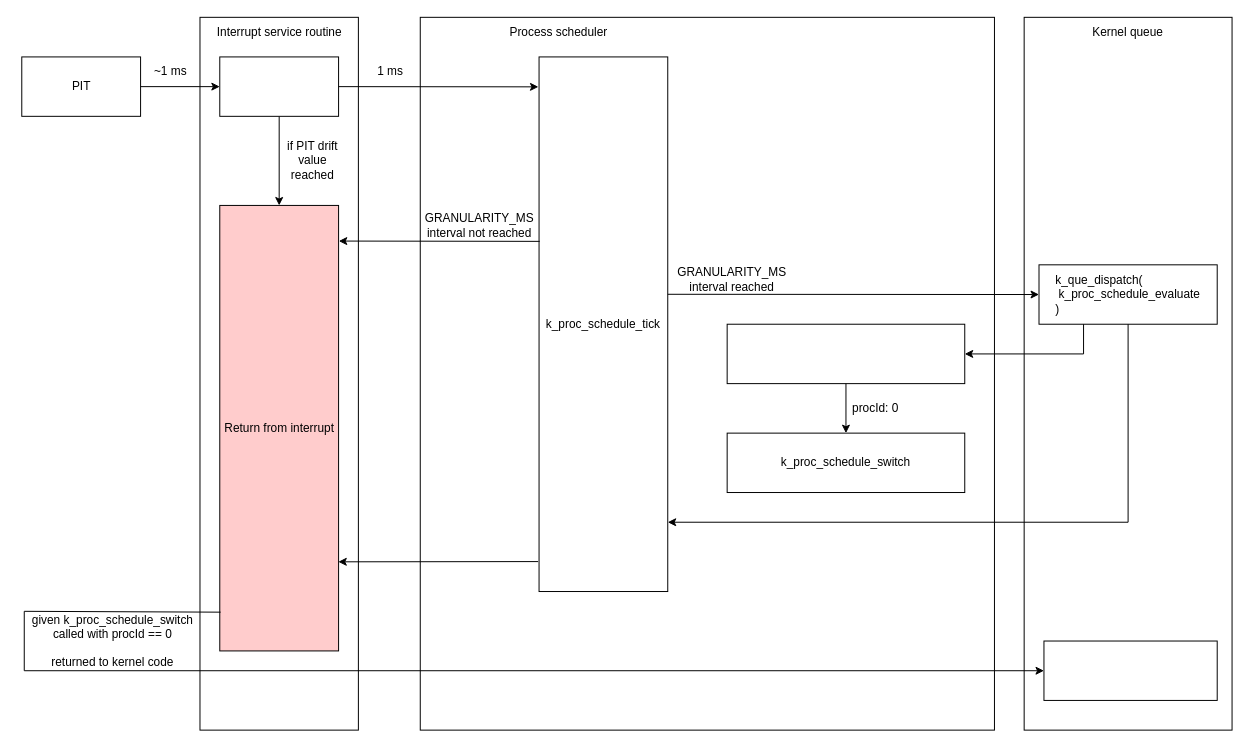
The diagram is 1249 pixels wide and 747 high, and some of its shapes have lost their labels. The centre of each missing label's shape, as x and y in pixels:
k_proc_schedule_setNeedsKernelHandling: pixel 845 353
k_que_start: pixel 1130 670
k_tmr_tick: pixel 279 86
